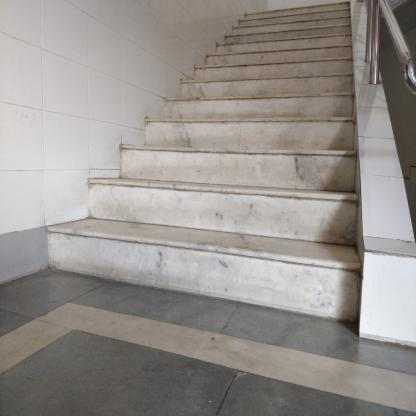stairs: (150, 134, 353, 329)
